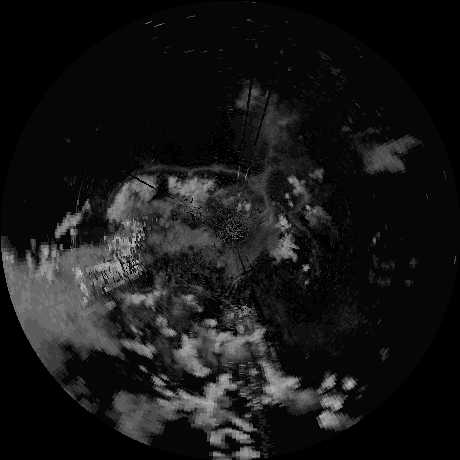frontgust: (188, 165, 272, 204), (284, 211, 320, 253), (134, 163, 189, 174)
